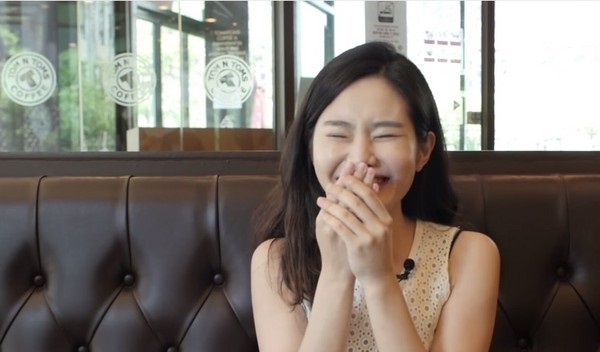face: (314, 88, 419, 212)
